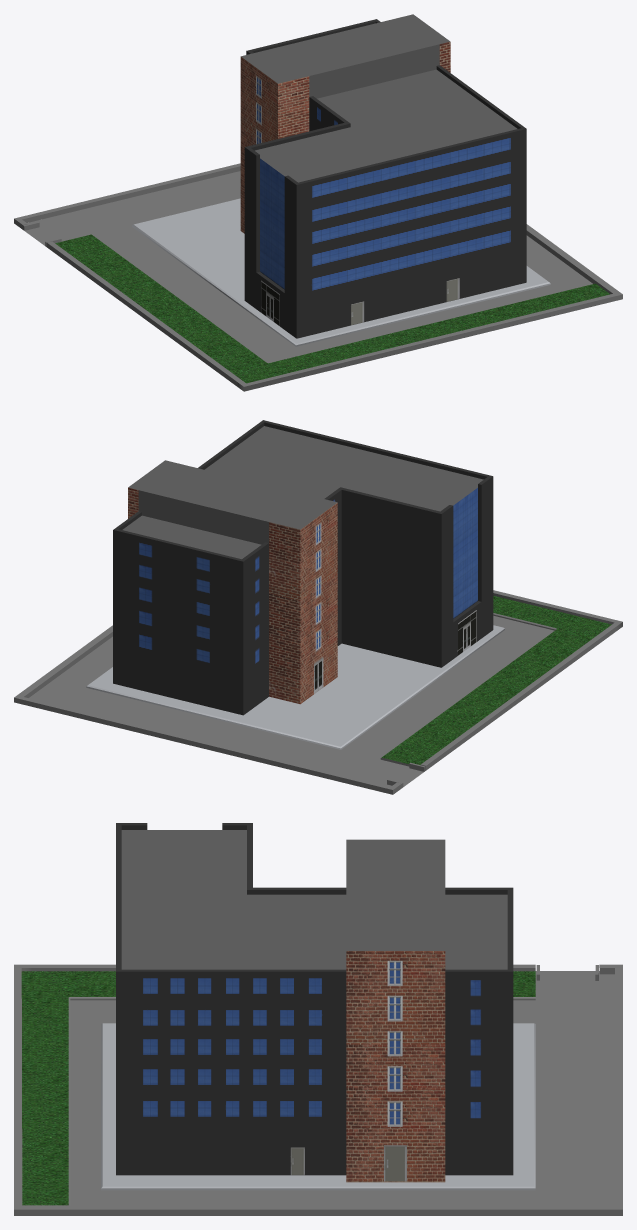
The model's file is officeBlock.glb.
3 renders of one model, top to bottom at view 1: azimuth 30°, elevation 25°; view 2: azimuth 150°, elevation 25°; view 3: azimuth 270°, elevation 25°, orthographic. The views are drawn at different scales.
Visible parts, largest first — view 1: SiteOffice001, SiteOffice_Ground; view 2: SiteOffice001, SiteOffice_Ground; view 3: SiteOffice001, SiteOffice_Ground.
Boxes of the visible parts, <box> form: SiteOffice001: <box>240,14,526,338</box>; SiteOffice_Ground: <box>14,163,622,391</box>; SiteOffice001: <box>113,420,493,715</box>; SiteOffice_Ground: <box>14,590,622,794</box>; SiteOffice001: <box>116,823,513,1182</box>; SiteOffice_Ground: <box>14,964,622,1215</box>.
Size of the model in its own units: 54.29 by 24.25 by 57.05.
Materials: 2 (2 with a texture image).
